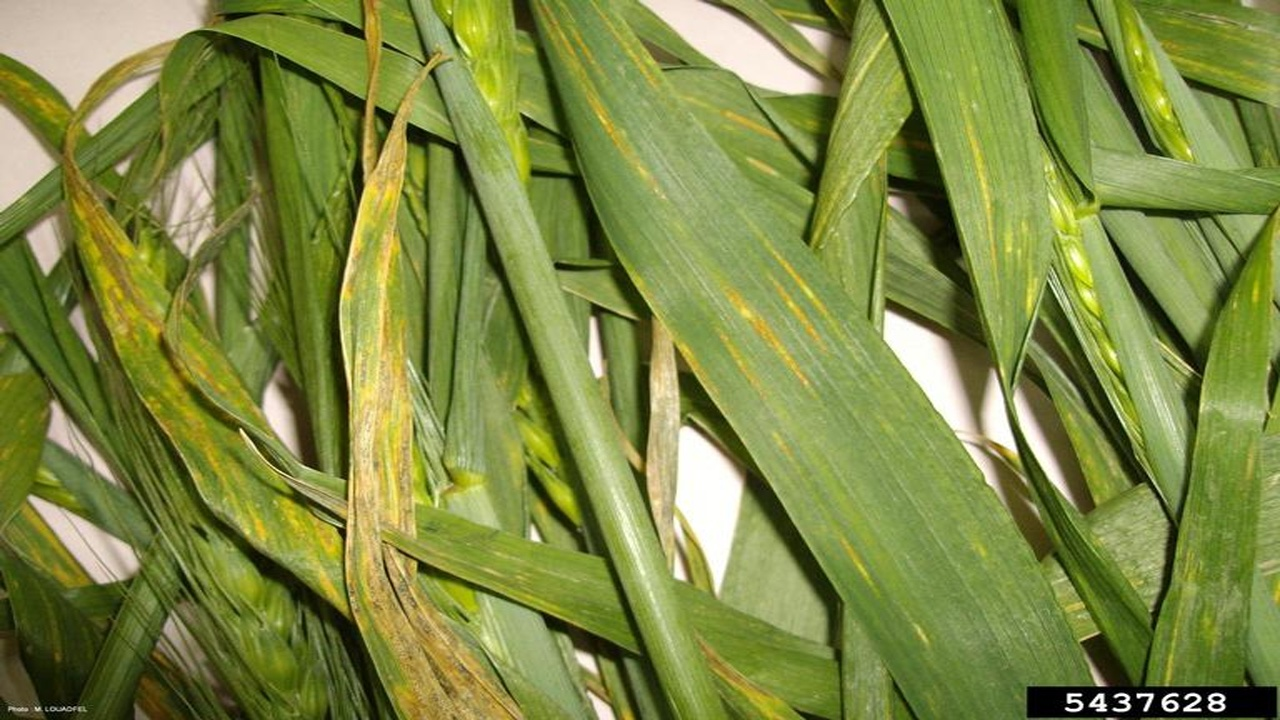tan_spot: (63, 145, 348, 624), (343, 59, 442, 720), (2, 54, 87, 153)
